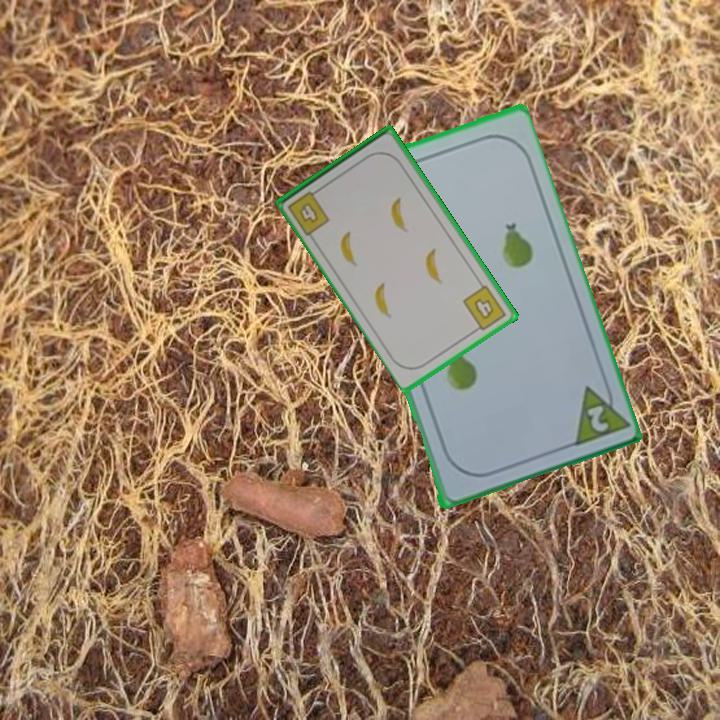2p: (582, 401, 611, 435)
4b: (459, 281, 509, 335), (284, 184, 333, 238)
